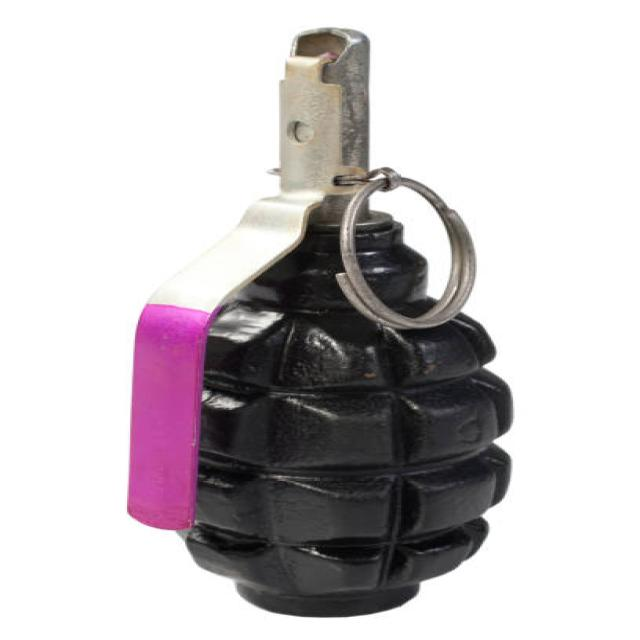grenade: (125, 18, 526, 621)
